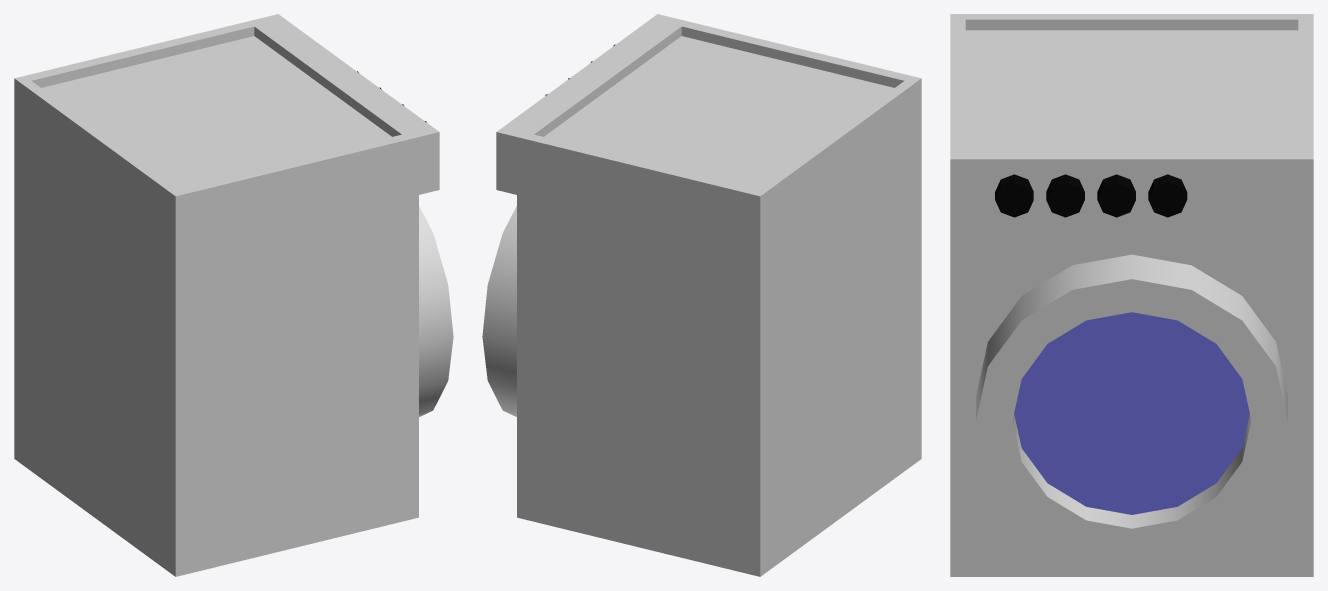
File: Washing_machine.fbx
3 renders of one model, left to right at view 1: azimuth 30°, elevation 25°; view 2: azimuth 150°, elevation 25°; view 3: azimuth 270°, elevation 25°, orthographic. The views are drawn at different scales.
Visible parts, largest first — view 1: Cube.001, Cylinder.004; view 2: Cube.001, Cylinder.004; view 3: Cube.001, Cylinder.004, Cylinder.006.
Part boxes in pixels (<box>): Cube.001: <box>14,14,439,576</box>; Cylinder.004: <box>419,206,453,416</box>; Cube.001: <box>496,14,921,576</box>; Cylinder.004: <box>482,206,516,416</box>; Cube.001: <box>950,14,1313,576</box>; Cylinder.004: <box>976,254,1287,561</box>; Cylinder.006: <box>995,174,1187,217</box>.
Bounding box in the file's own units: 2.23 × 2.81 × 2.16.
